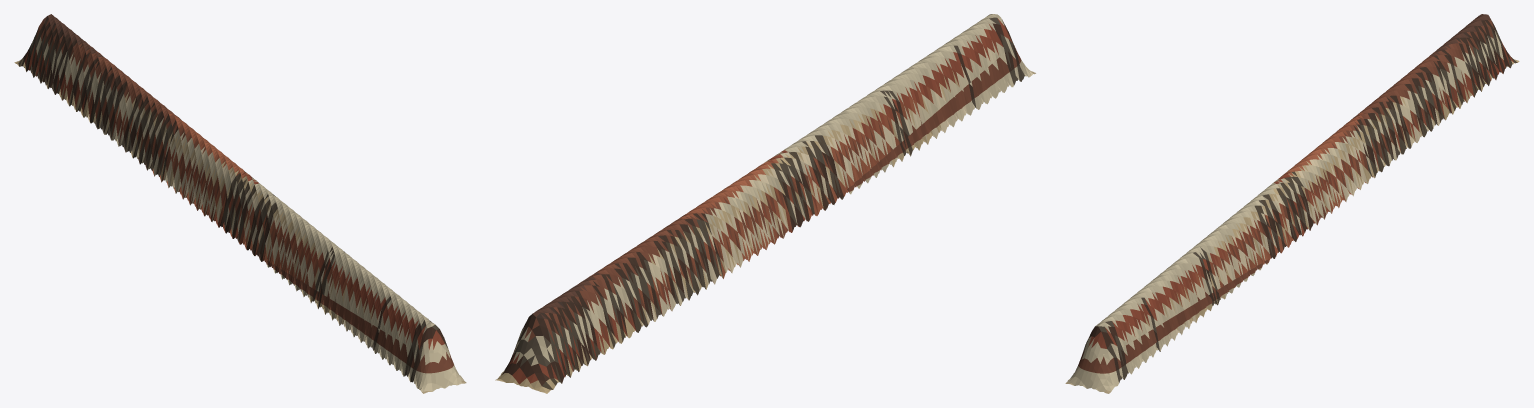
Rendered from dam_wash_fin_west.glb.
3 renders of one model, left to right at view 1: azimuth 30°, elevation 25°; view 2: azimuth 150°, elevation 25°; view 3: azimuth 330°, elevation 25°, orthographic. The views are drawn at different scales.
Parts seen in each view (by area): view 1: dam_wash_fin_west; view 2: dam_wash_fin_west; view 3: dam_wash_fin_west.
Part boxes in pixels (x1,y1,x2,y2): dam_wash_fin_west: (14,14,466,393); dam_wash_fin_west: (495,14,1035,393); dam_wash_fin_west: (1065,14,1519,393).
Size of the model in its own units: 22 by 40.72 by 359.
